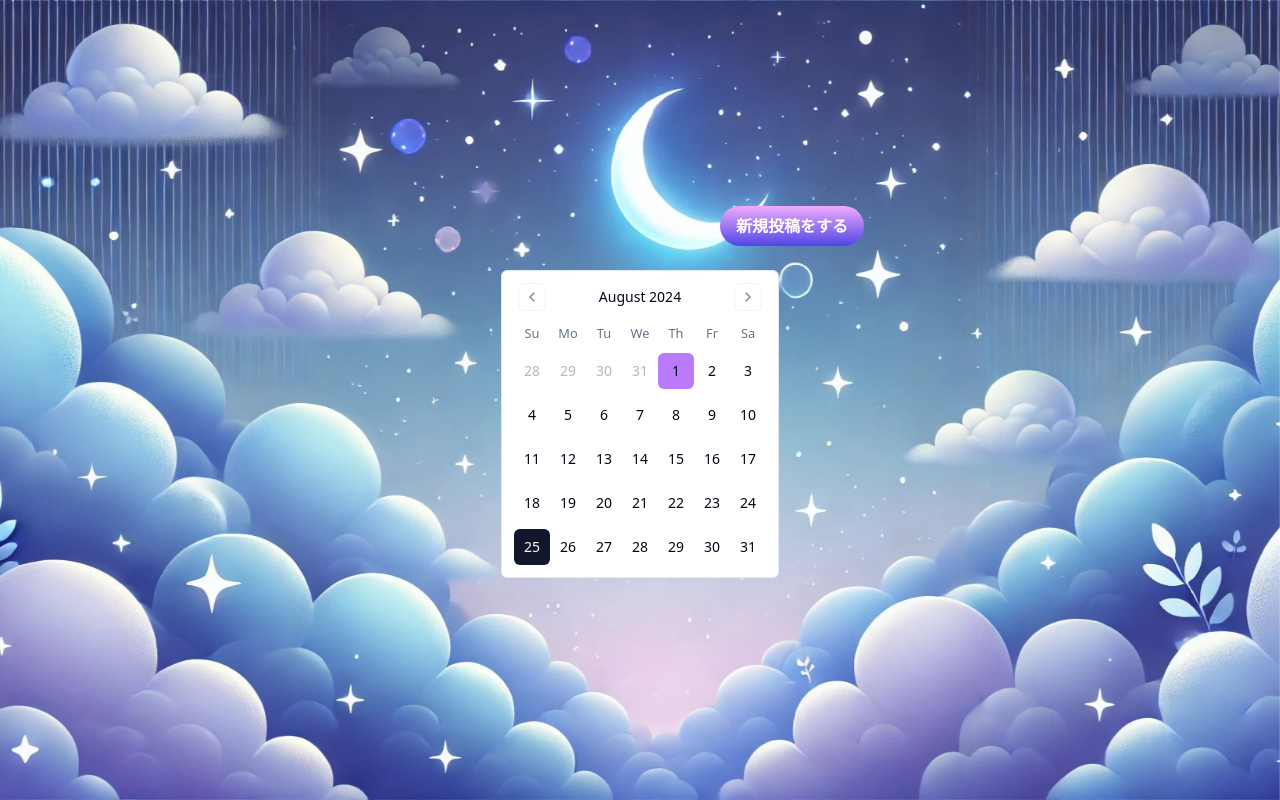
Test case: CalendarPage › カレンダーが表示され、日付選択をするとジャーナル内容と削除ボタンが表示される
Expected: the element with test id "calendar" is shown, [501,270,779,578]
Click the text "1": (676, 371) [658,353,694,389]
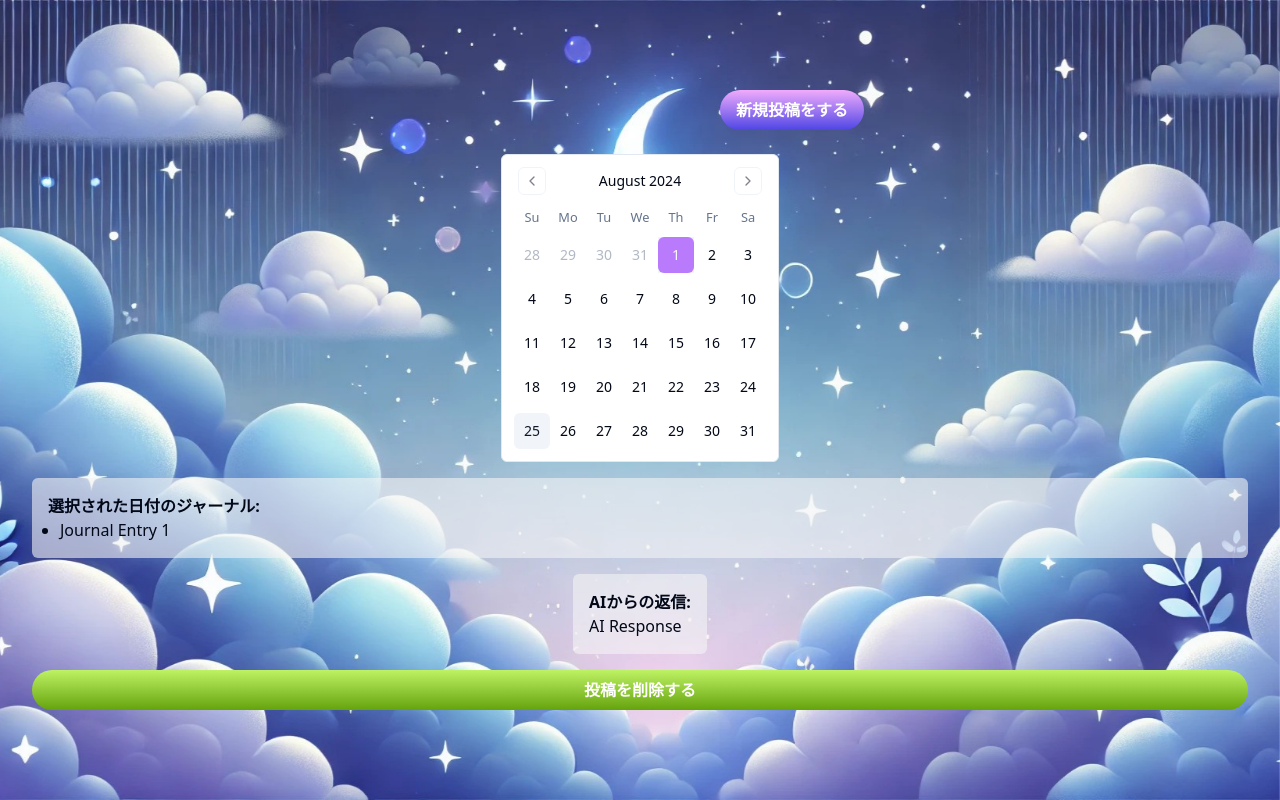
Result: the list item "Journal Entry 1" is shown at [60,519,170,541]
Result: the text "AI Response" is shown at [589,614,691,638]
Result: the button "投稿を削除する" is shown
Click the button "投稿を削除する": (640, 690) [32,670,1248,710]
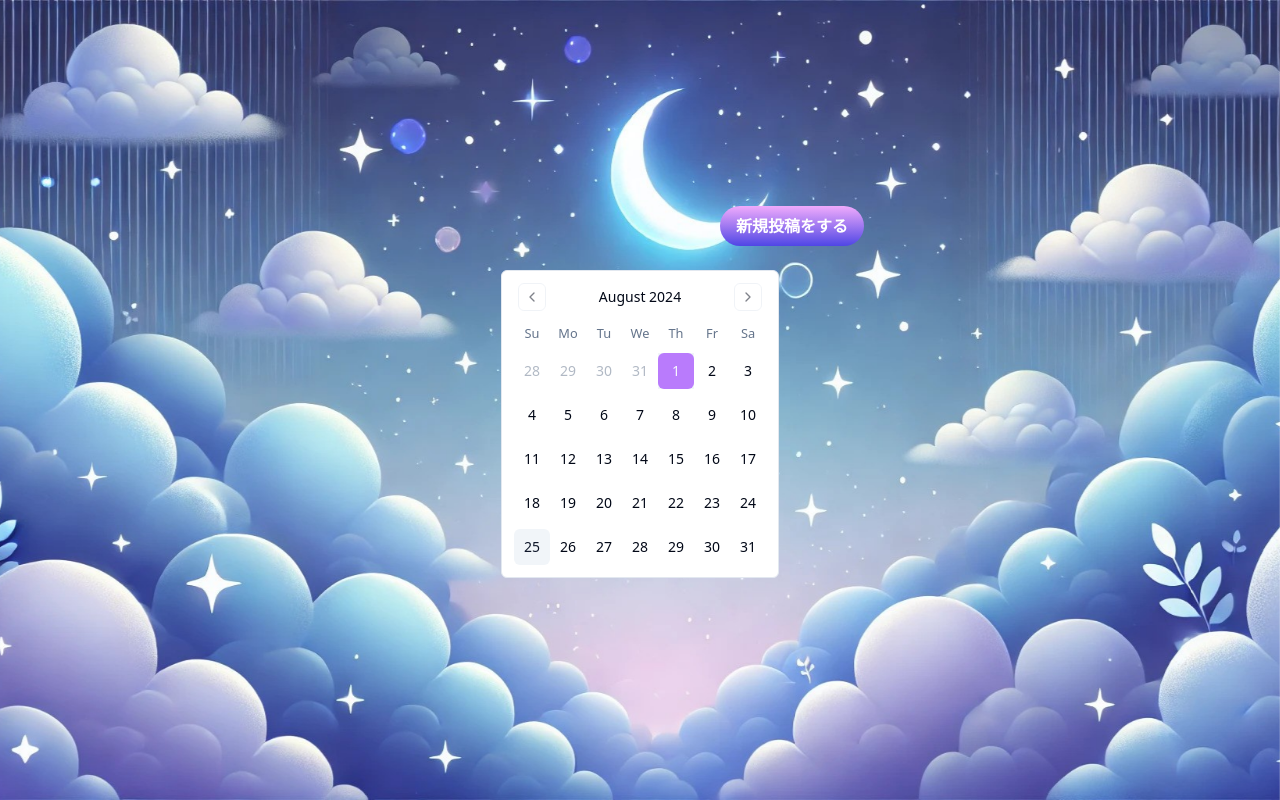
Result: the list item "Journal Entry 1" is gone
Result: the text "AI Response" is gone
